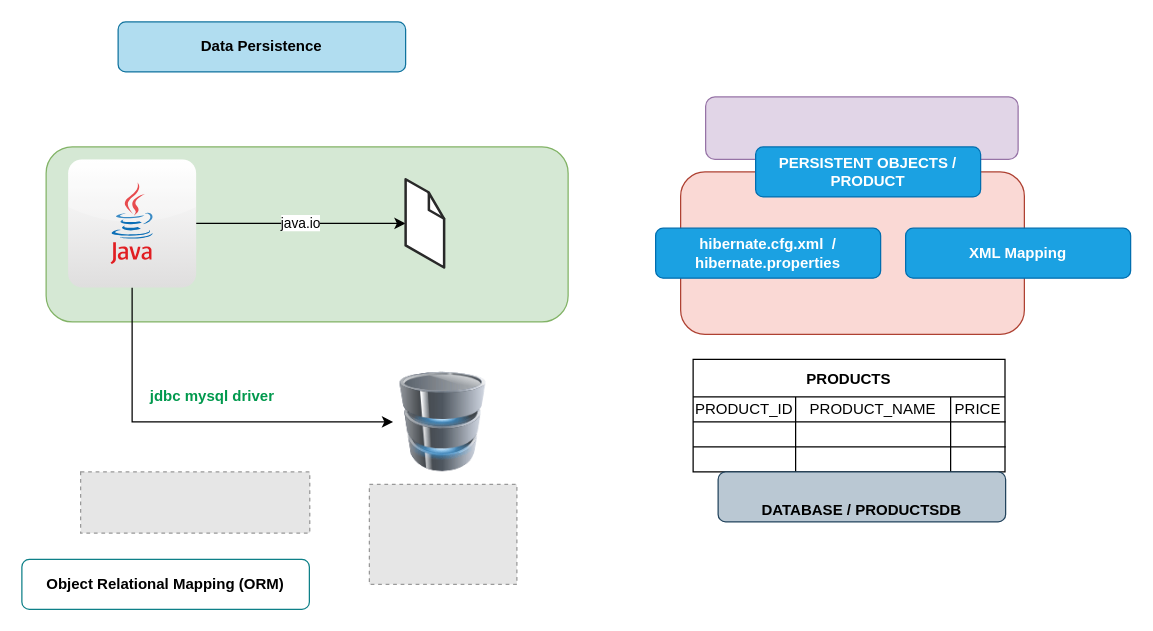
Some shapes in this 1153 by 631 pixel diagram are drawn without their labels. Grey dashed boxes stand in for pictures. The shapes that lost their labels are listed below. From the top down, each one's box as (x1, y1, x2, y2) in pixels, then its label:
(704, 96, 1018, 159): JAVA APPLICATION
(404, 178, 444, 268): File
(679, 171, 1024, 334): HIBERNATE FRAMEWORK
